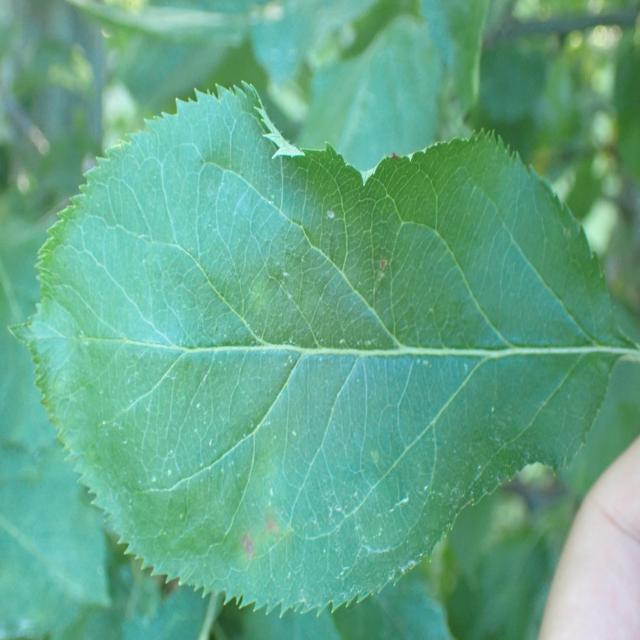scab: (85, 173, 530, 595)
